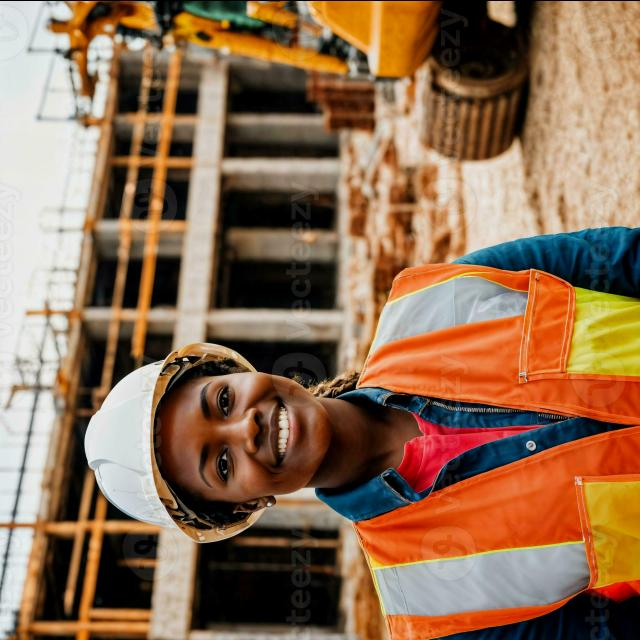Hard Hat: (79, 334, 223, 548)
Reflective Vest: (335, 255, 637, 640)
